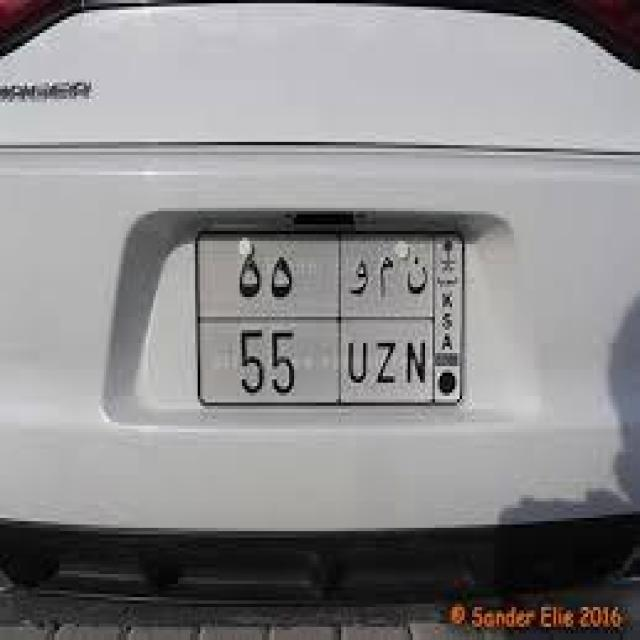license_plate: (166, 204, 472, 429)
